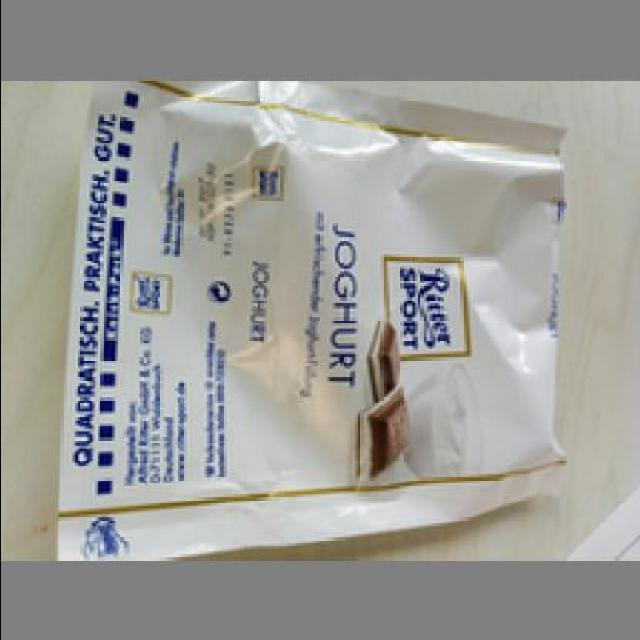Chocolate bar: (57, 103, 563, 546)
